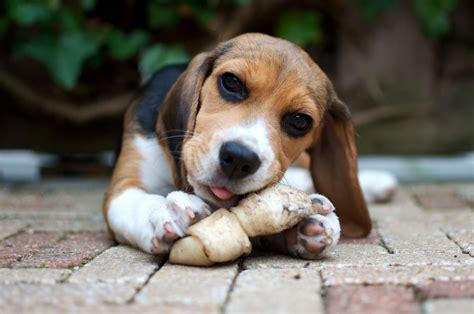dog: (104, 33, 371, 268)
